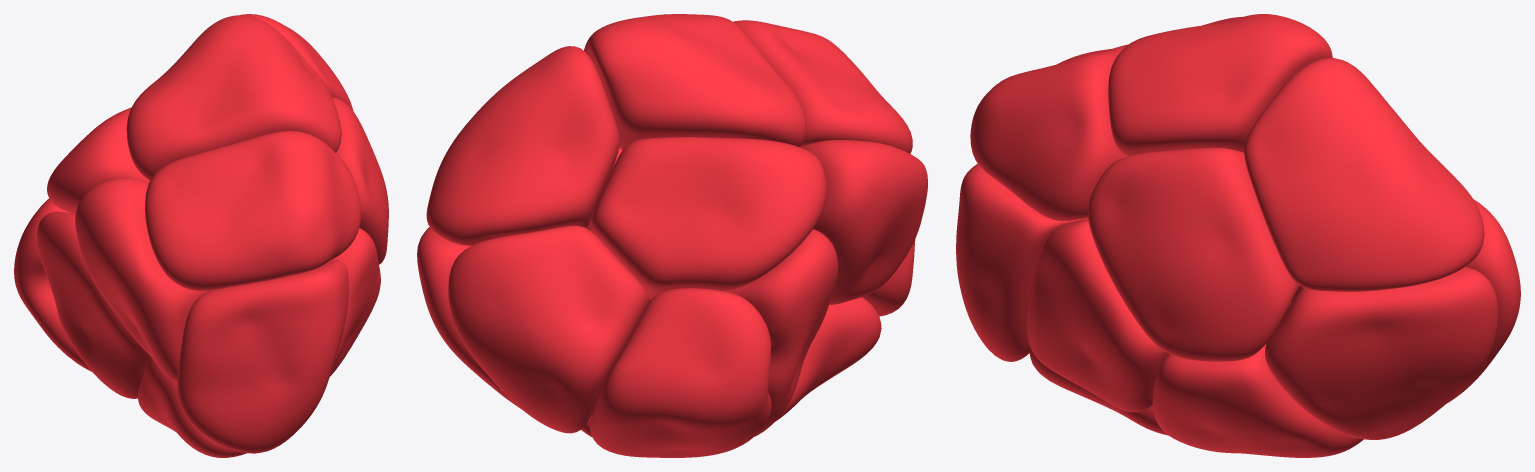
3 views of the same model, side by side, from view 1: azimuth 30°, elevation 25°; view 2: azimuth 150°, elevation 25°; view 3: azimuth 270°, elevation 25° (orthographic). The views are drawn at different scales.
Parts seen in each view (by area): view 1: a6.011, a6.008, a6.007, a6.002, a6.012, a6.013, a6.014, a6.003, a6.006, a6.005, a6.001; view 2: a6.013, a6.004, a6.001, a6.003, a6.007, a6.002, a6.011, a6.012, a6.005, a6.009, a6.008; view 3: a6.001, a6.014, a6.009, a6.007, a6.011, a6.006, a6.010, a6.008, a6.004, a6.005.
Boxes of the visible parts, bbox=[...] form: a6.011: bbox=[145, 130, 361, 290]; a6.008: bbox=[177, 259, 348, 453]; a6.007: bbox=[126, 15, 341, 180]; a6.002: bbox=[75, 178, 207, 381]; a6.012: bbox=[37, 211, 149, 398]; a6.013: bbox=[47, 107, 149, 213]; a6.014: bbox=[332, 97, 388, 264]; a6.003: bbox=[14, 198, 91, 371]; a6.006: bbox=[330, 227, 380, 376]; a6.005: bbox=[138, 356, 246, 457]; a6.001: bbox=[240, 14, 353, 110]; a6.013: bbox=[589, 137, 826, 299]; a6.004: bbox=[448, 225, 648, 433]; a6.001: bbox=[426, 46, 619, 245]; a6.003: bbox=[590, 288, 771, 457]; a6.007: bbox=[584, 14, 806, 150]; a6.002: bbox=[800, 140, 927, 304]; a6.011: bbox=[733, 20, 912, 153]; a6.012: bbox=[648, 229, 838, 436]; a6.005: bbox=[775, 297, 881, 421]; a6.009: bbox=[417, 227, 520, 408]; a6.008: bbox=[863, 239, 915, 316]; a6.001: bbox=[1244, 58, 1484, 291]; a6.014: bbox=[1088, 147, 1301, 361]; a6.009: bbox=[1265, 267, 1497, 439]; a6.007: bbox=[1108, 14, 1332, 156]; a6.011: bbox=[970, 44, 1128, 220]; a6.006: bbox=[1027, 219, 1168, 412]; a6.010: bbox=[1152, 303, 1363, 457]; a6.008: bbox=[956, 164, 1088, 361]; a6.004: bbox=[1447, 199, 1520, 403]; a6.005: bbox=[1029, 351, 1168, 435].
Bounding box in the file's own units: 3415 × 3662 × 4279.
